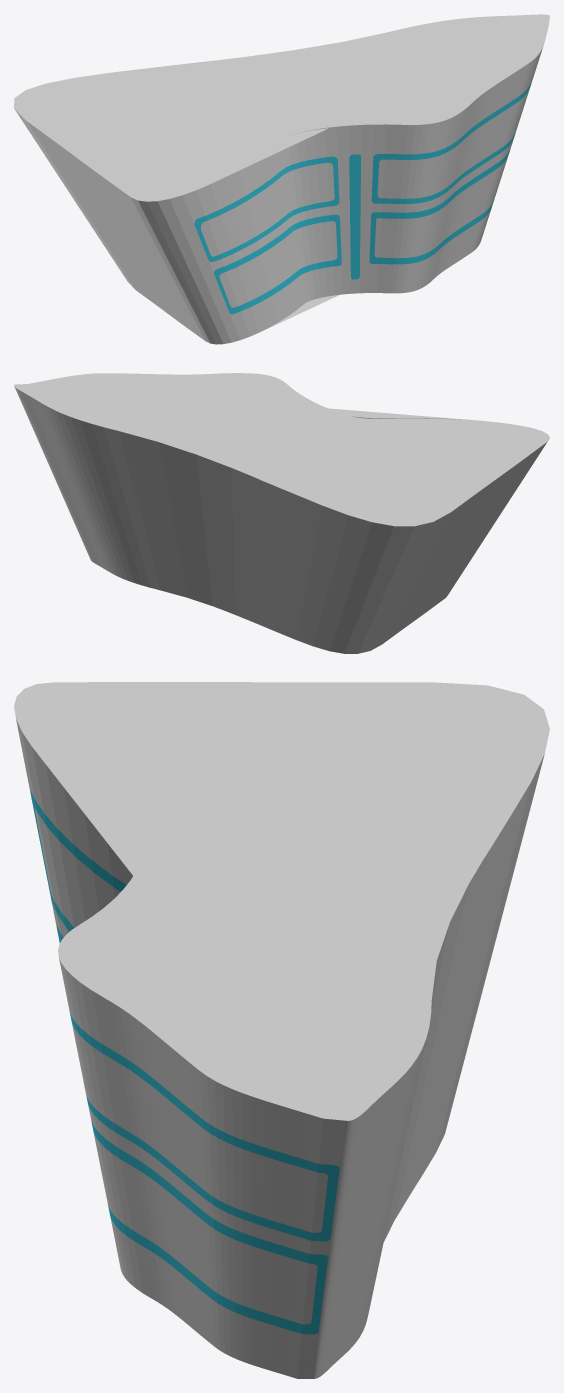
The model's file is baseLunar.fbx.
The picture shows the model from 3 angles, top to bottom: view 1: azimuth 30°, elevation 25°; view 2: azimuth 150°, elevation 25°; view 3: azimuth 270°, elevation 25°; orthographic projection. The views are drawn at different scales.
Parts seen in each view (by area): view 1: Curva Bezier; view 2: Curva Bezier; view 3: Curva Bezier.
Part boxes in pixels (left/top/right/bottom): Curva Bezier: left=14, top=14, right=549, bottom=344; Curva Bezier: left=14, top=373, right=549, bottom=653; Curva Bezier: left=14, top=682, right=549, bottom=1378.
Bounding box in the file's own units: 331 × 115 × 171.
